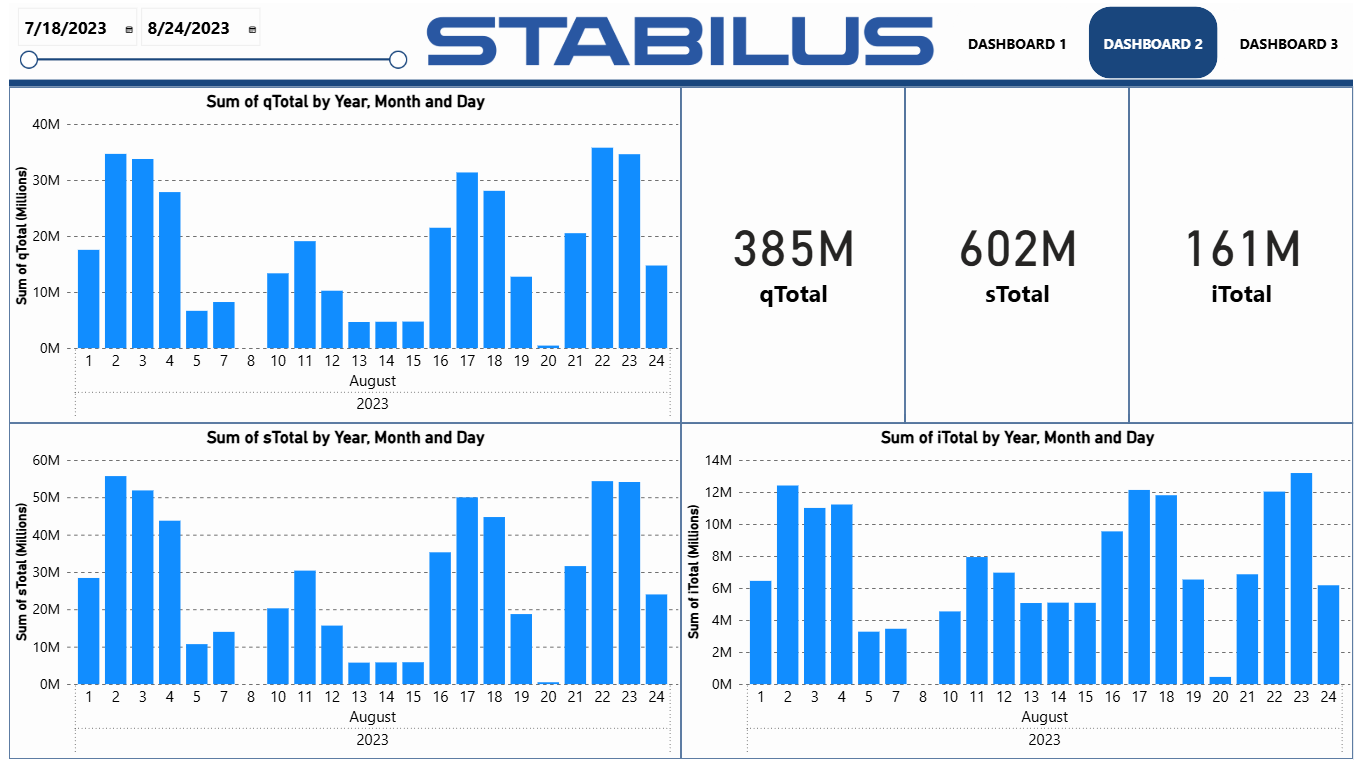

The page's visual inventory and layout, read from the dashboard file:
{"tool":"powerbi","page":{"name":"DASHBOARD 2","canvas":[1920,1080],"ordinal":1},"visuals":[{"type":"shape","box":[0,0,1920,1080],"z":0},{"type":"image","box":[590,0,738,108],"z":1000},{"type":"pageNavigator","box":[1348,0,572,108],"z":2000},{"type":"slicer","fields":{"Values":["Power monitoring - counter data.date_time"]},"box":[0,0,572,108],"z":3000},{"type":"shape","box":[0,108.3,1920,11.7],"z":4000},{"type":"lineClusteredColumnComboChart","fields":{"Category":["Power monitoring - counter data.date_time.Variation.Date Hierarchy.Year","Power monitoring - counter data.date_time.Variation.Date Hierarchy.Month","Power monitoring - counter data.date_time.Variation.Date Hierarchy.Day"],"Y":["Sum(Power monitoring - counter data.iTotal)"]},"box":[960,600,960,480],"z":5000},{"type":"columnChart","fields":{"Category":["Power monitoring - counter data.date_time.Variation.Date Hierarchy.Year","Power monitoring - counter data.date_time.Variation.Date Hierarchy.Month","Power monitoring - counter data.date_time.Variation.Date Hierarchy.Day"],"Y":["Sum(Power monitoring - counter data.sTotal)"]},"box":[0,600,960,480],"z":6000},{"type":"columnChart","fields":{"Category":["Power monitoring - counter data.date_time.Variation.Date Hierarchy.Year","Power monitoring - counter data.date_time.Variation.Date Hierarchy.Month","Power monitoring - counter data.date_time.Variation.Date Hierarchy.Day"],"Y":["Sum(Power monitoring - counter data.qTotal)"]},"box":[0,120,960,480],"z":7000},{"type":"card","fields":{"Values":["Sum(Power monitoring - counter data.iTotal)"]},"box":[1600,120,320,480],"z":8000},{"type":"card","fields":{"Values":["Sum(Power monitoring - counter data.qTotal)"]},"box":[960,120,320,480],"z":9000},{"type":"card","fields":{"Values":["Sum(Power monitoring - counter data.sTotal)"]},"box":[1280,120,320,480],"z":10000}]}

Visuals, with their boxes in screenshot pixels (x1, y1, x2, y2), scaled from the page's 1920x1080 canvas onto the 1361x765 screenshot:
shape: Rect(0, 0, 1360, 764)
image: Rect(418, 0, 941, 76)
pageNavigator: Rect(956, 0, 1360, 76)
slicer - Power monitoring - counter data.date_time: Rect(0, 0, 405, 76)
shape: Rect(0, 77, 1360, 85)
lineClusteredColumnComboChart - Power monitoring - counter data.date_time.Variation.Date Hierarchy.Year x Power monitoring - counter data.date_time.Variation.Date Hierarchy.Month: Rect(680, 425, 1360, 764)
columnChart - Power monitoring - counter data.date_time.Variation.Date Hierarchy.Year x Power monitoring - counter data.date_time.Variation.Date Hierarchy.Month: Rect(0, 425, 680, 764)
columnChart - Power monitoring - counter data.date_time.Variation.Date Hierarchy.Year x Power monitoring - counter data.date_time.Variation.Date Hierarchy.Month: Rect(0, 85, 680, 425)
card - Sum(Power monitoring - counter data.iTotal): Rect(1134, 85, 1360, 425)
card - Sum(Power monitoring - counter data.qTotal): Rect(680, 85, 907, 425)
card - Sum(Power monitoring - counter data.sTotal): Rect(907, 85, 1134, 425)
